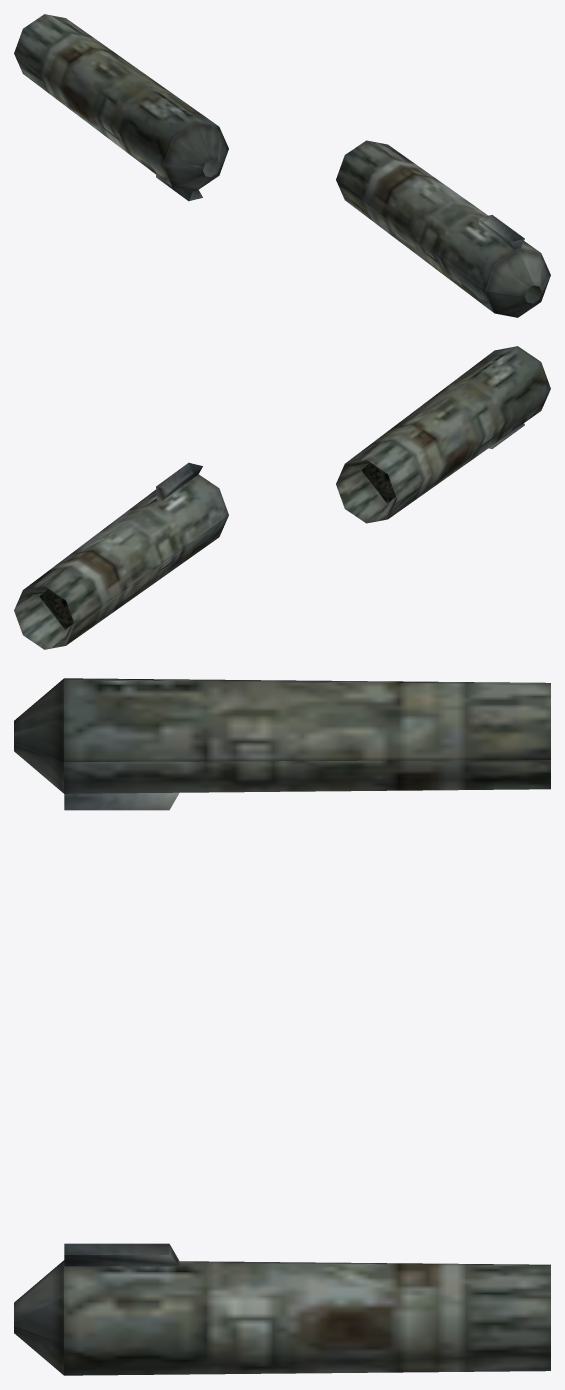
File: xwing_thruster_pos_s01_l1.fbx
The picture shows the model from 3 angles, top to bottom: view 1: azimuth 30°, elevation 25°; view 2: azimuth 150°, elevation 25°; view 3: azimuth 270°, elevation 25°; orthographic projection. The views are drawn at different scales.
Parts seen in each view (by area): view 1: mesh_node; view 2: mesh_node; view 3: mesh_node.
Part boxes in pixels (left/top/right/bottom): mesh_node: left=14, top=14, right=550, bottom=317; mesh_node: left=14, top=346, right=550, bottom=649; mesh_node: left=14, top=678, right=550, bottom=1375.
Size of the model in its own units: 4.21 by 2.84 by 3.14.
